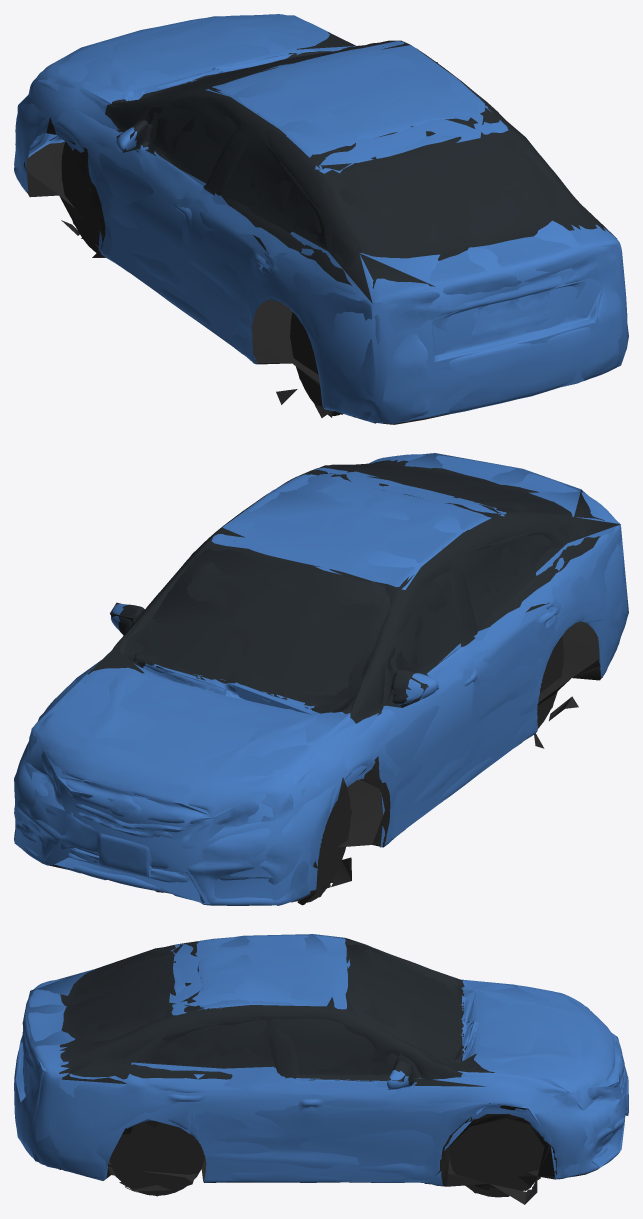
The model's file is subaru-legacy.glb.
3 renders of one model, top to bottom at view 1: azimuth 30°, elevation 25°; view 2: azimuth 150°, elevation 25°; view 3: azimuth 270°, elevation 25°, orthographic. The views are drawn at different scales.
Visible parts, largest first — view 1: body, far; view 2: body, far; view 3: body, far.
Boxes of the visible parts, x1,y1,x2,y2 form: body: (14, 14, 627, 424); far: (14, 15, 628, 423); body: (14, 454, 627, 905); far: (14, 453, 628, 904); body: (14, 935, 628, 1204); far: (14, 934, 628, 1196).
Bounding box in the file's own units: 2.26 × 1.64 × 4.84.
